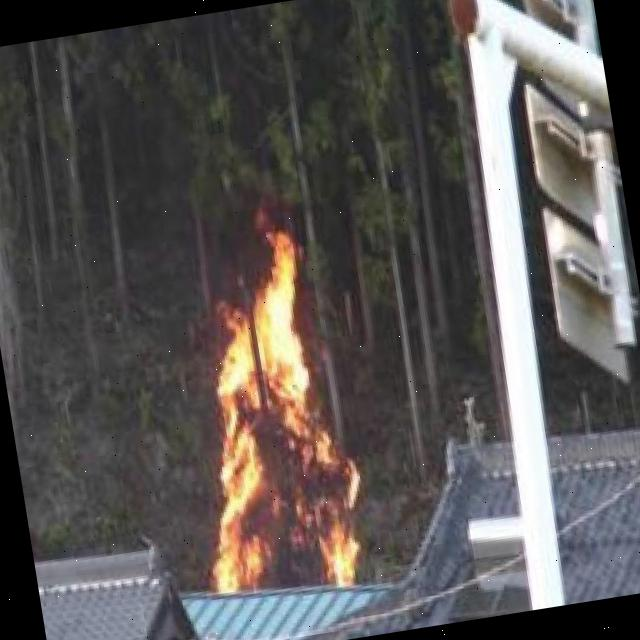fire: (174, 240, 374, 606)
